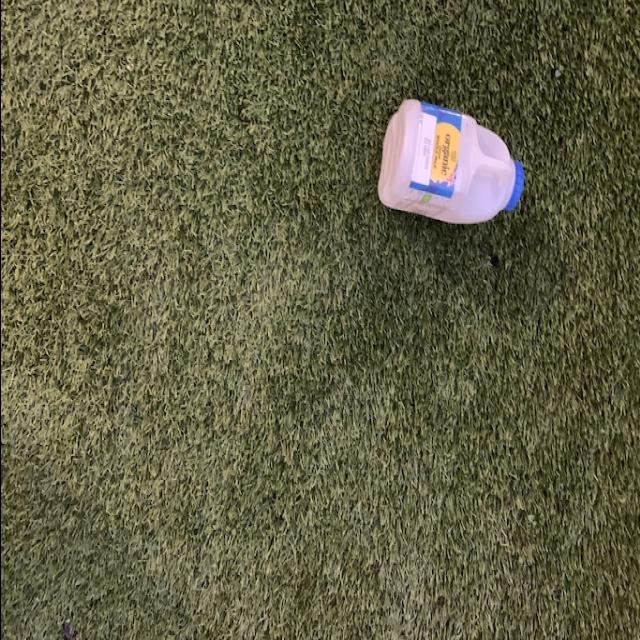litter: (370, 100, 522, 234)
